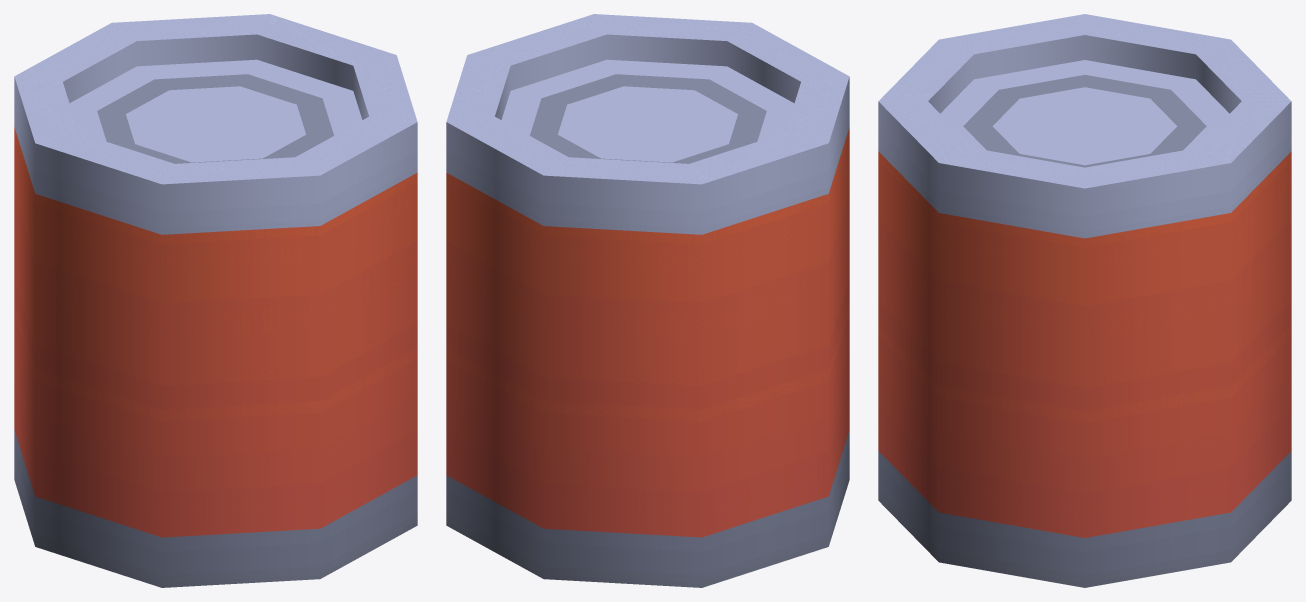
The model's file is can.glb.
The picture shows the model from 3 angles, left to right: view 1: azimuth 30°, elevation 25°; view 2: azimuth 150°, elevation 25°; view 3: azimuth 270°, elevation 25°; orthographic projection.
Parts seen in each view (by area): view 1: can; view 2: can; view 3: can.
Boxes of the visible parts, left/top/right/bottom form: can: left=14, top=14, right=417, bottom=587; can: left=446, top=14, right=849, bottom=587; can: left=878, top=14, right=1291, bottom=587.
Size of the model in its own units: 0.3 by 0.32 by 0.3.
Materials: 1 (1 with a texture image).
